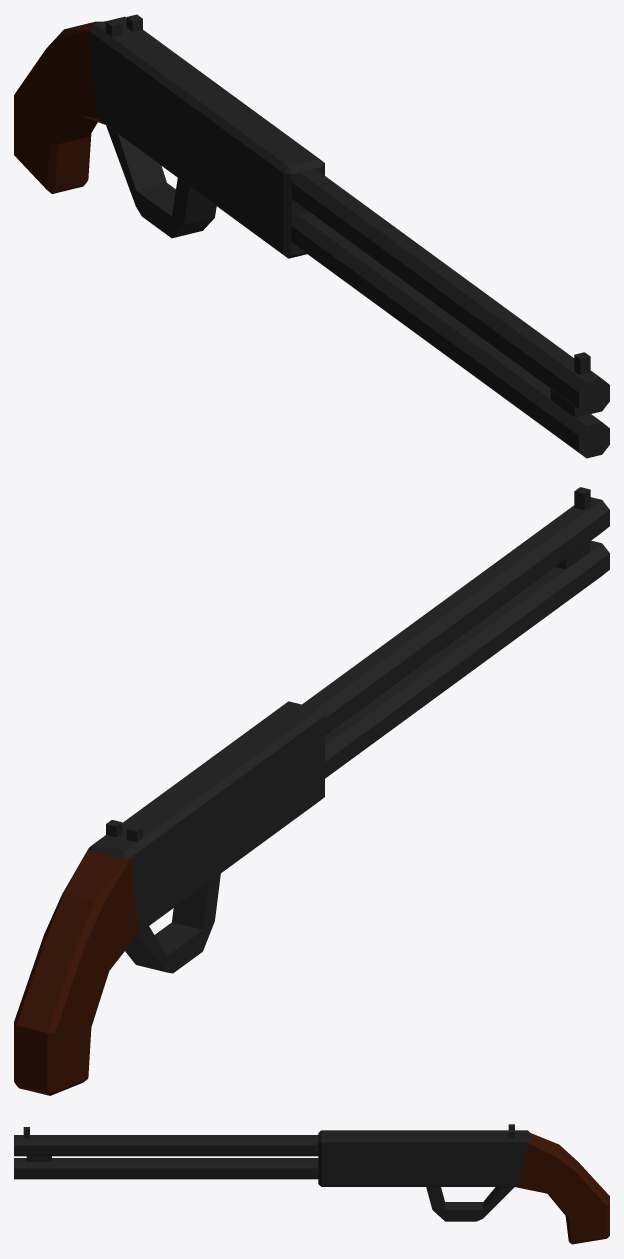
The model's file is shotgun_receiver.obj.
The picture shows the model from 3 angles, top to bottom: view 1: azimuth 30°, elevation 25°; view 2: azimuth 150°, elevation 25°; view 3: azimuth 270°, elevation 25°; orthographic projection. The views are drawn at different scales.
Parts seen in each view (by area): view 1: Cube.006; view 2: Cube.006; view 3: Cube.006.
Part boxes in pixels (x1,y1,x2,y2): Cube.006: (14,14,609,458); Cube.006: (14,487,609,1095); Cube.006: (14,1124,609,1244).
Size of the model in its own units: 0.0625 by 0.3047 by 1.47.
